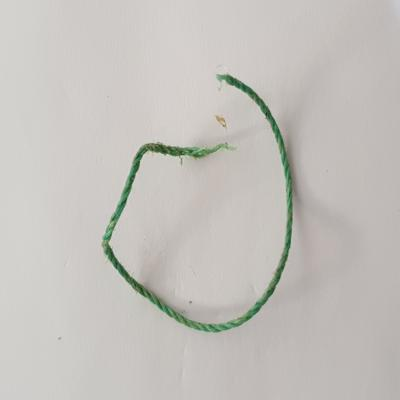thread: (96, 67, 307, 339)
